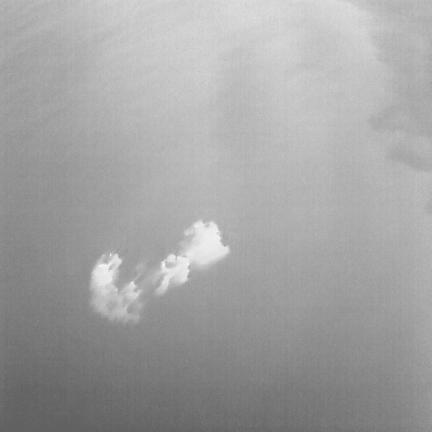flukeprints: (179, 220, 229, 267), (155, 254, 190, 294), (92, 253, 121, 291)
